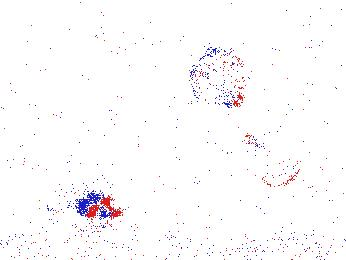flame jellyfish: (40, 170, 120, 221), (188, 50, 249, 110), (243, 134, 303, 188)
